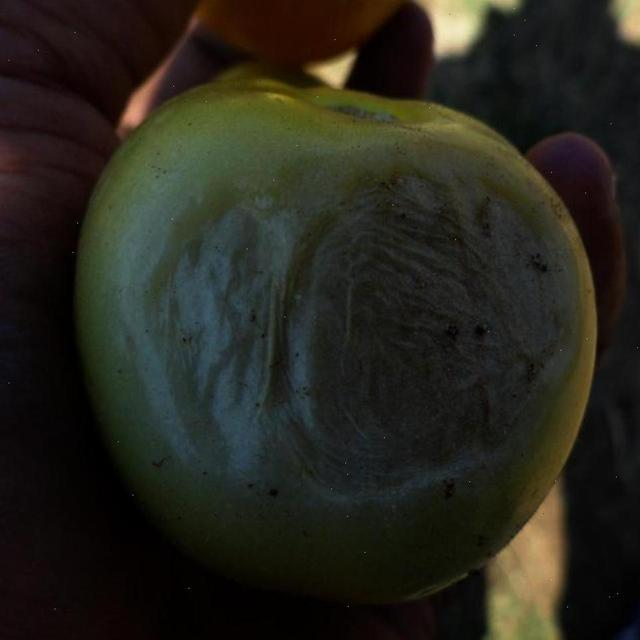Sunscald Fruit: (105, 94, 379, 358)
